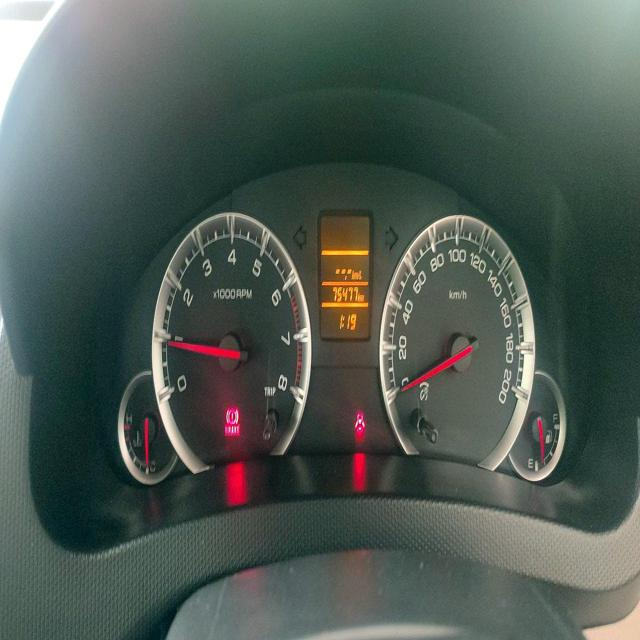odometer: (331, 282, 359, 303)
